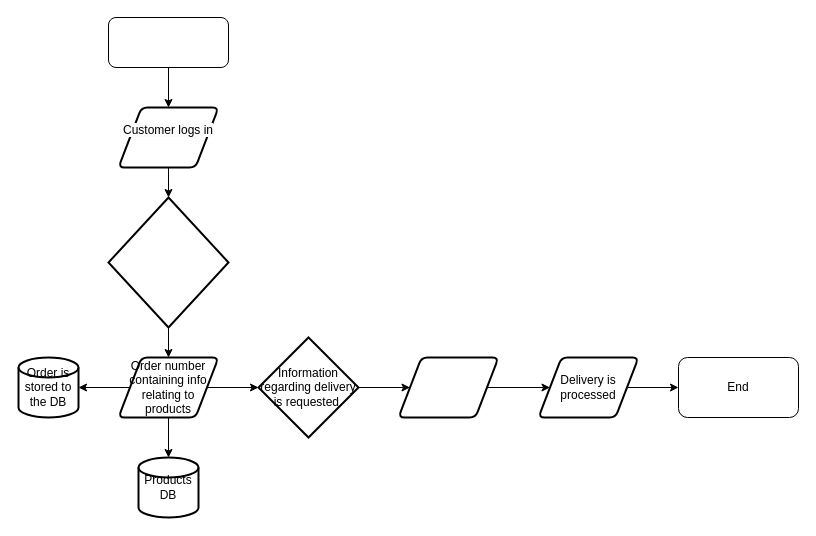
Some shapes in this 816 by 536 pixel diagram are drawn without their labels. Each missing label, with the centre of its shape:
"Customer confirms payment" goes at [448,387].
"Customer makes an order" goes at [168,262].
"Start" goes at [168,42].
